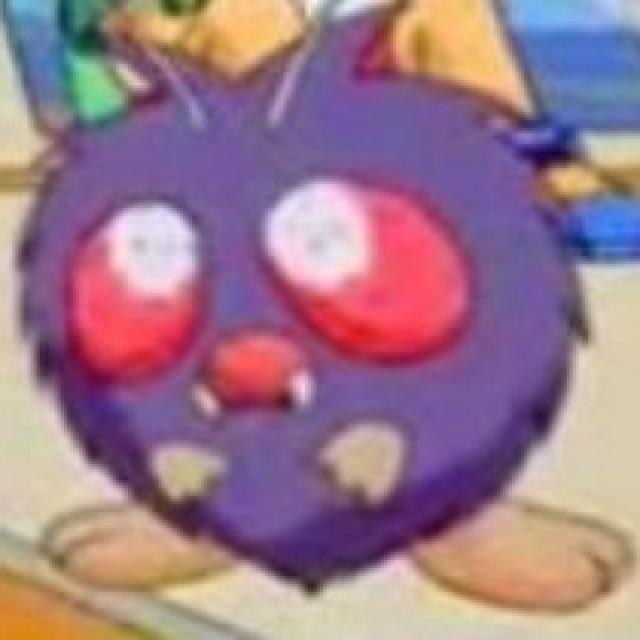Venonat: (21, 76, 586, 588)
